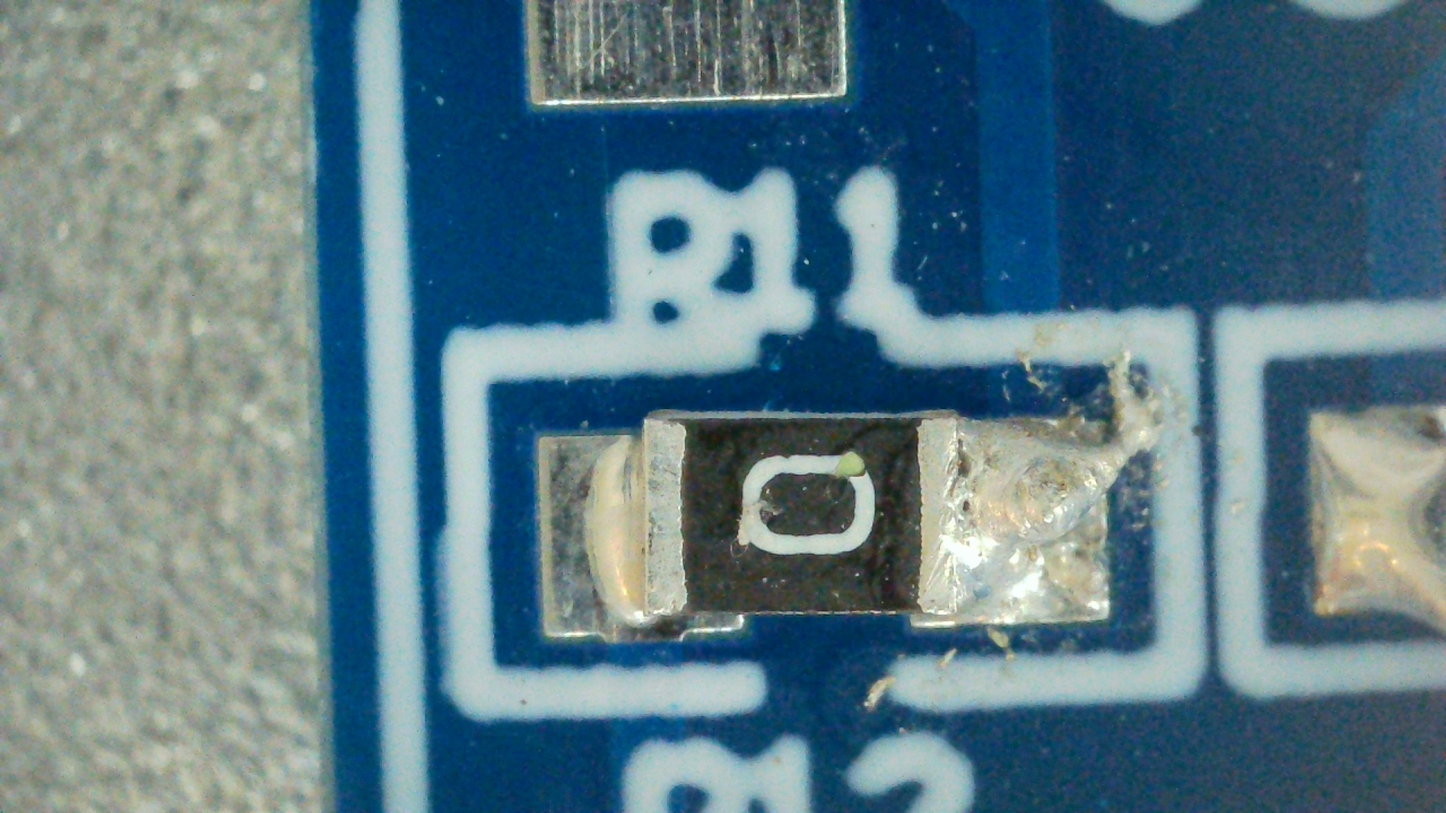NG: (540, 354, 1156, 643)
